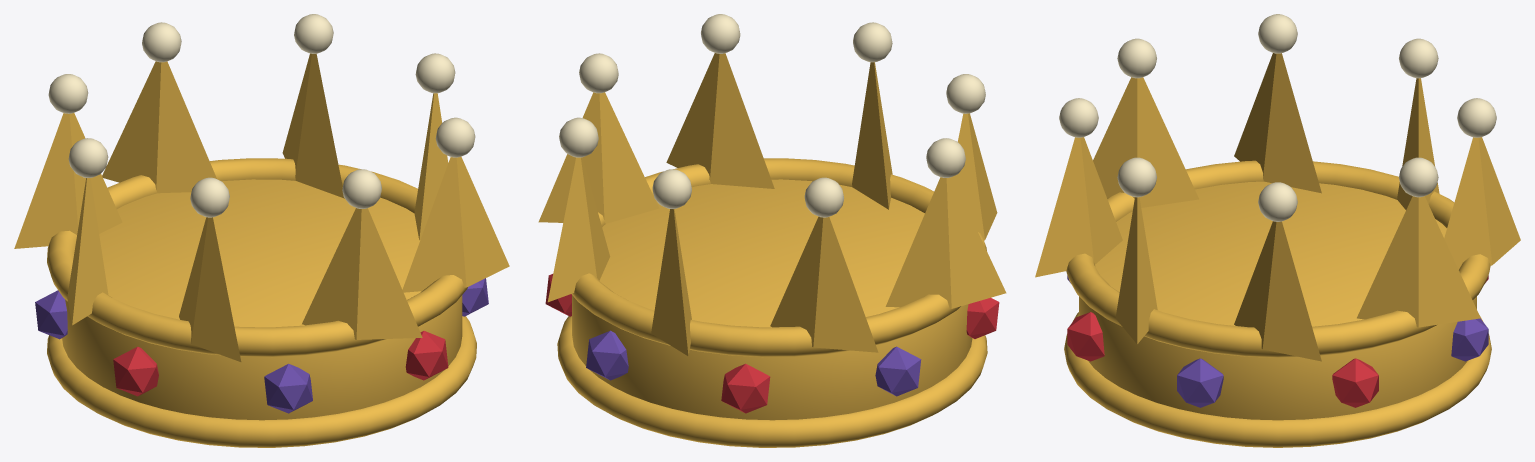
The model's file is coroa.glb.
3 views of the same model, side by side, from view 1: azimuth 30°, elevation 25°; view 2: azimuth 150°, elevation 25°; view 3: azimuth 270°, elevation 25° (orthographic).
Parts seen in each view (by area): view 1: Coroa; view 2: Coroa; view 3: Coroa.
Part boxes in pixels (<box>): Coroa: <box>14,14,509,447</box>; Coroa: <box>538,14,1006,447</box>; Coroa: <box>1035,14,1520,447</box>.
Bounding box in the file's own units: 0.3907 × 0.2324 × 0.3907.
